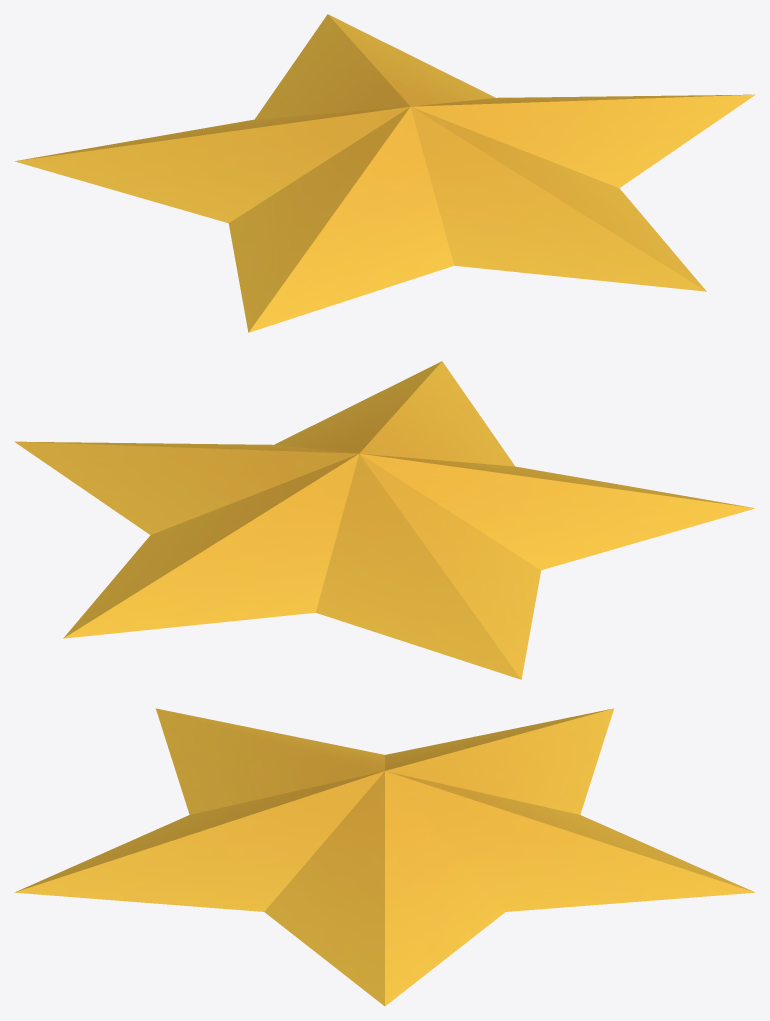
Rendered from star.glb.
3 renders of one model, top to bottom at view 1: azimuth 30°, elevation 25°; view 2: azimuth 150°, elevation 25°; view 3: azimuth 270°, elevation 25°, orthographic. The views are drawn at different scales.
Visible parts, largest first — view 1: star.001; view 2: star.001; view 3: star.001.
Boxes of the visible parts, bbox=[...] form: star.001: bbox=[15, 14, 755, 332]; star.001: bbox=[14, 361, 754, 679]; star.001: bbox=[14, 708, 755, 1006].
Bounding box in the file's own units: 57.44 × 12.7 × 60.39.
Materials: 1 (1 with a texture image).
